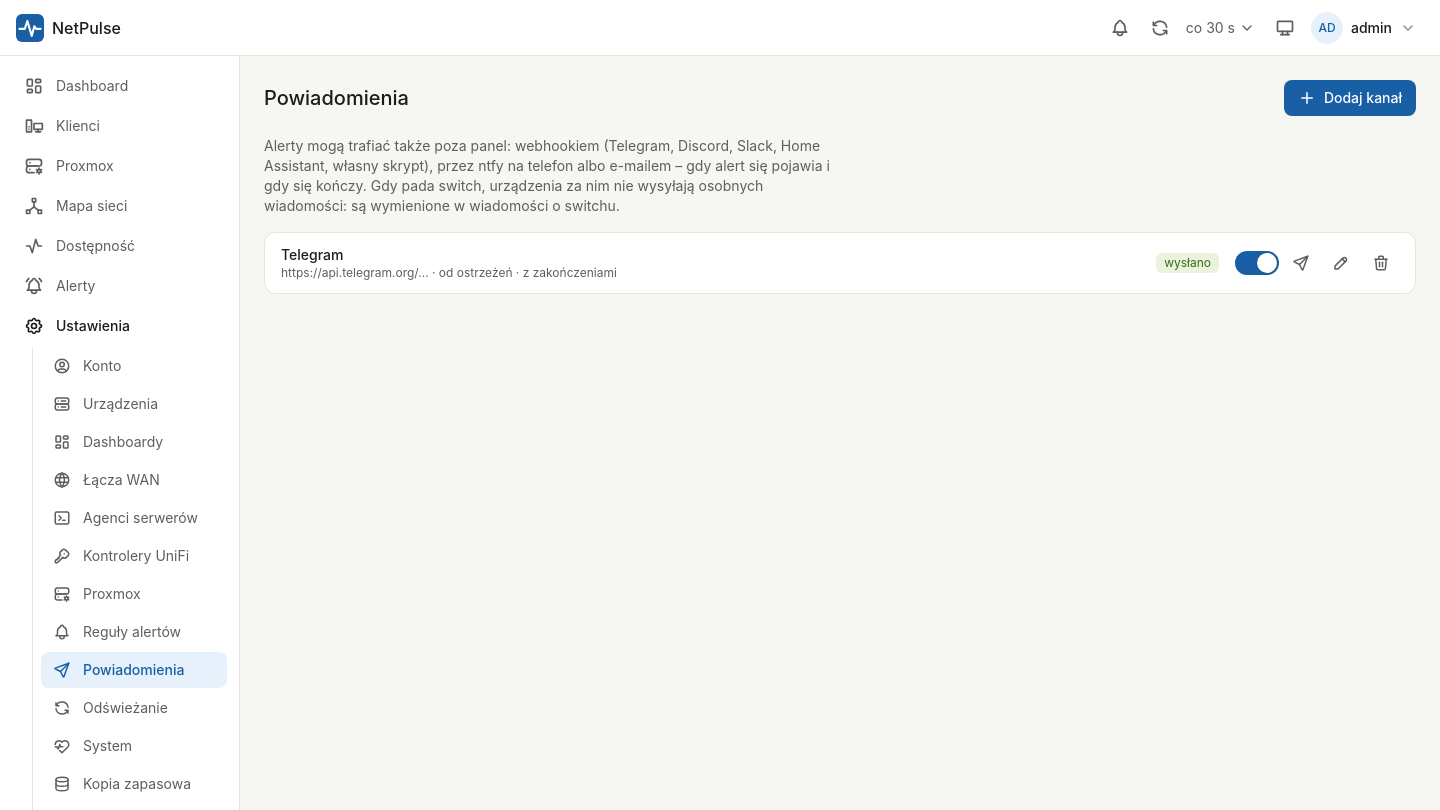
Test case: Ustawienia → Powiadomienia › pokazuje powód, gdy wiadomość próbna nie dotarła
This screenshot has width=1440, height=810.
Click the button named "Wyślij wiadomość próbną Telegram" at (1301, 263), box [1283,245,1319,281]
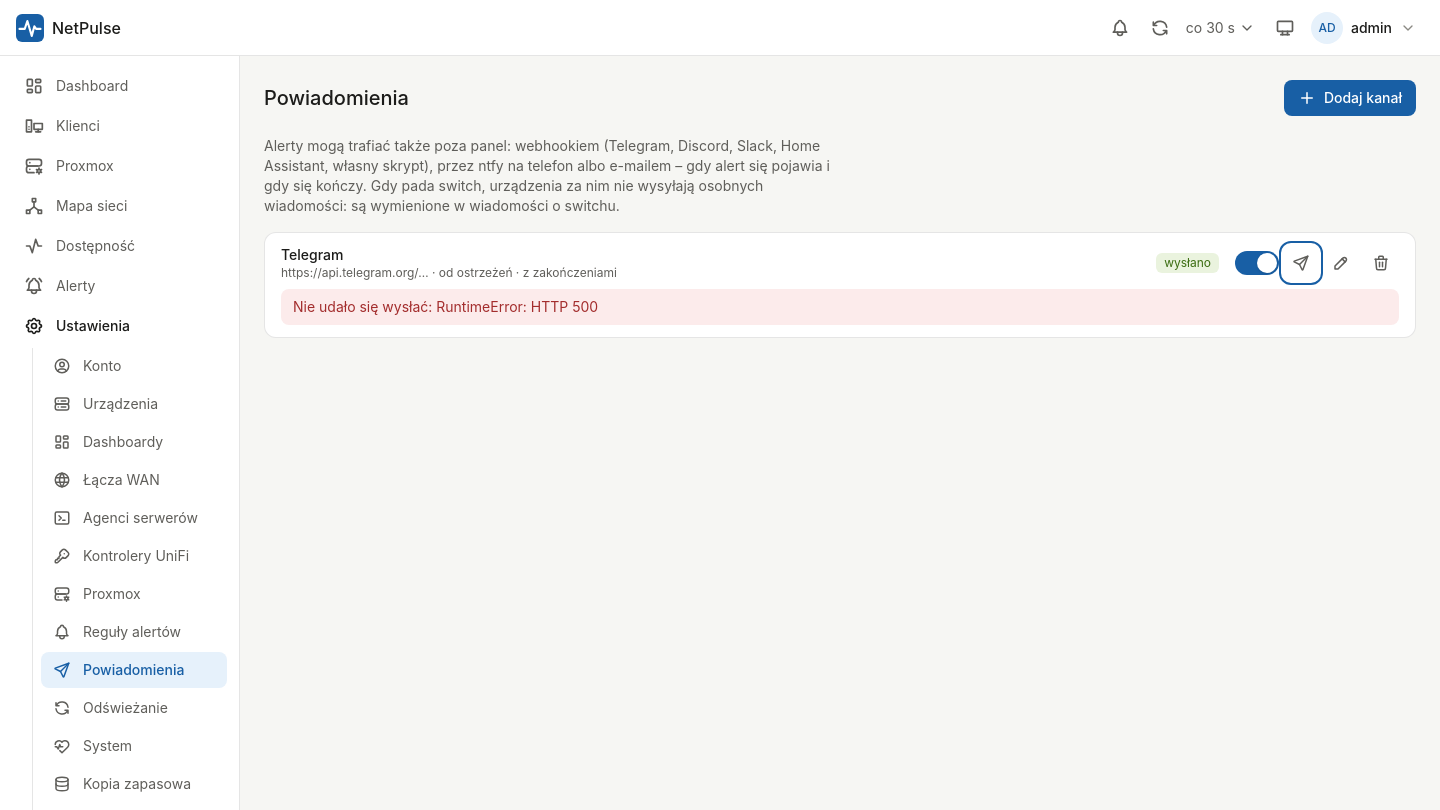
expect the text "Nie udało się wysłać: RuntimeError: HTTP 500" is shown: met, box [281,289,1399,325]
